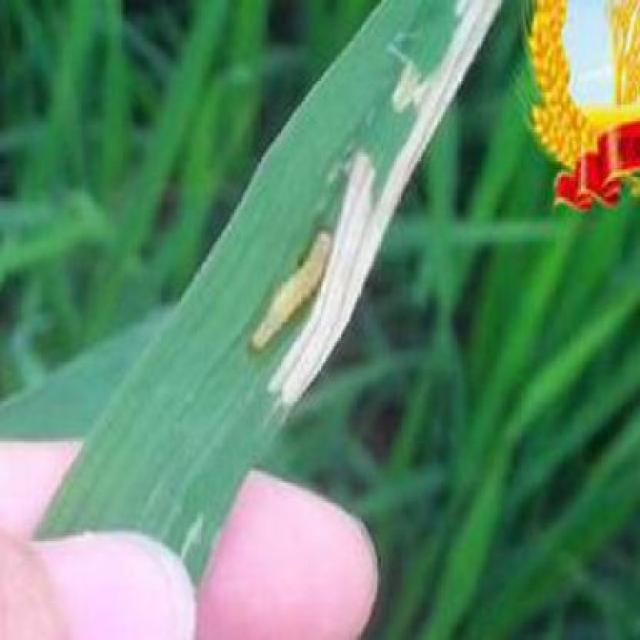leaf-folder: (251, 205, 346, 352)
